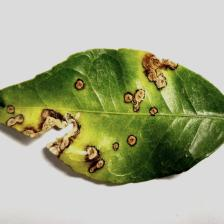canker: (1, 31, 177, 170)
